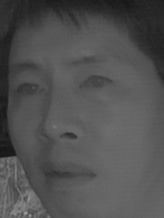eye: (78, 71, 114, 95), (12, 81, 47, 99)
mouth: (37, 158, 100, 191)
